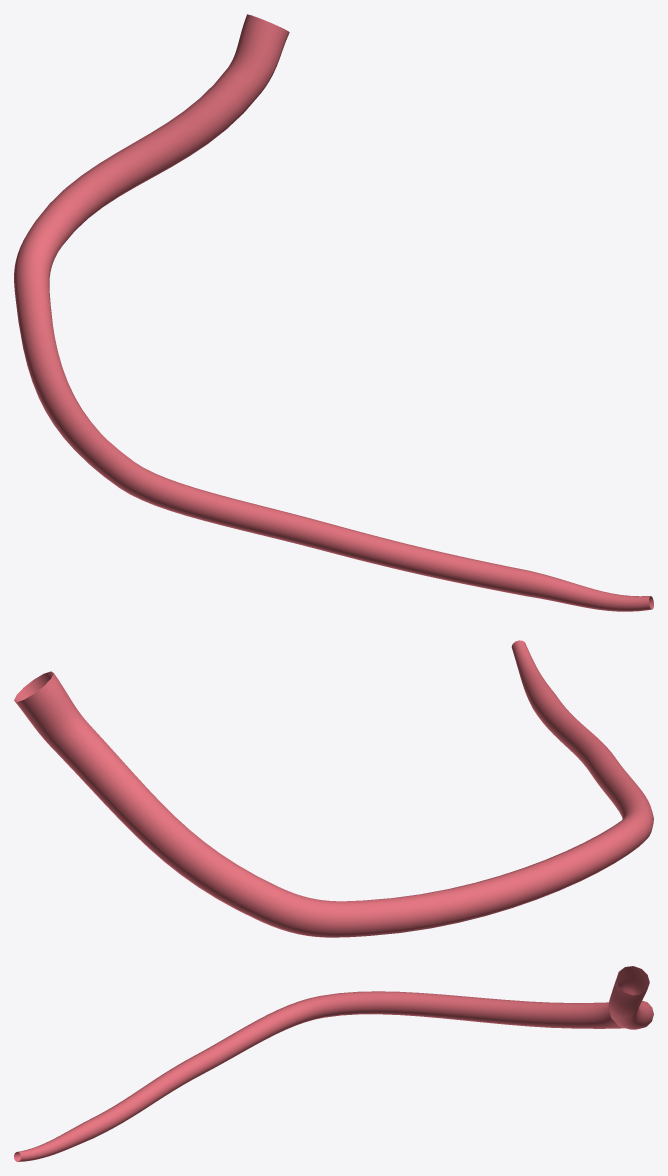
The picture shows the model from 3 angles, top to bottom: view 1: azimuth 30°, elevation 25°; view 2: azimuth 150°, elevation 25°; view 3: azimuth 270°, elevation 25°; orthographic projection. The views are drawn at different scales.
Parts seen in each view (by area): view 1: ZA_47fb5570c1c5cbb3; view 2: ZA_47fb5570c1c5cbb3; view 3: ZA_47fb5570c1c5cbb3.
Part boxes in pixels (<box>): ZA_47fb5570c1c5cbb3: <box>14,14,653,611</box>; ZA_47fb5570c1c5cbb3: <box>14,640,653,937</box>; ZA_47fb5570c1c5cbb3: <box>14,966,653,1161</box>.
Size of the model in its own units: 0.0383 by 0.0271 by 0.0752.
